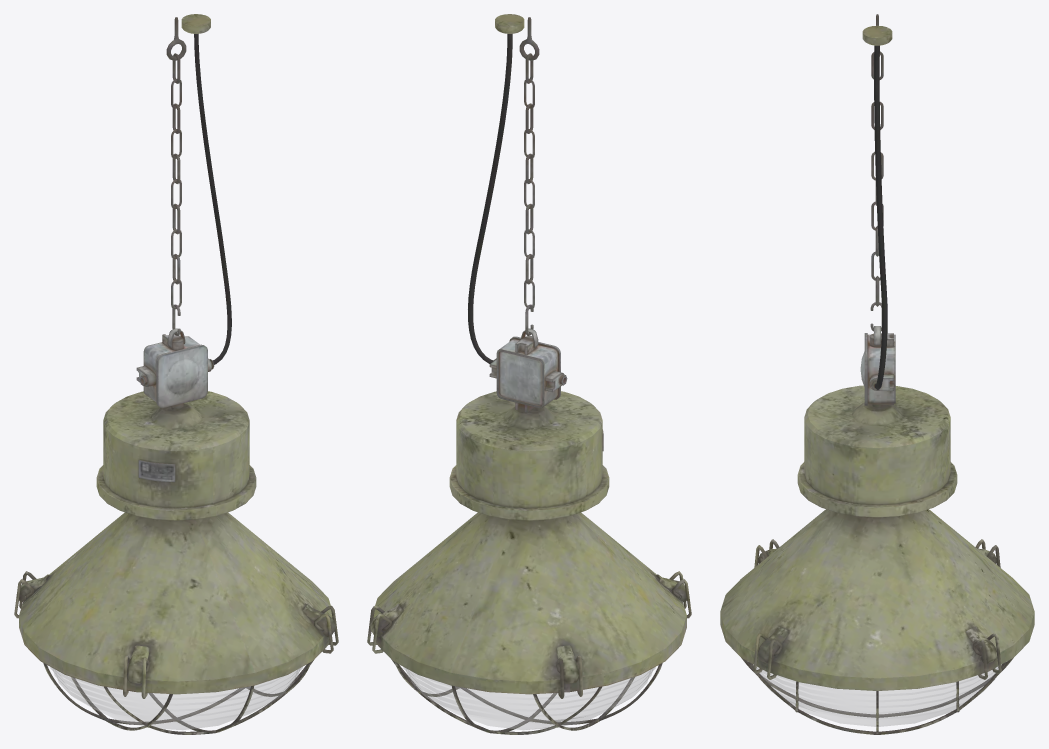
Rendered from hanging_industrial_lamp.glb.
The picture shows the model from 3 angles, left to right: view 1: azimuth 30°, elevation 25°; view 2: azimuth 150°, elevation 25°; view 3: azimuth 270°, elevation 25°; orthographic projection.
Visible parts, largest first — view 1: hanging_industrial_lamp; view 2: hanging_industrial_lamp; view 3: hanging_industrial_lamp.
Boxes of the visible parts, x1,y1,x2,y2 form: hanging_industrial_lamp: [14, 14, 338, 734]; hanging_industrial_lamp: [367, 14, 691, 734]; hanging_industrial_lamp: [720, 14, 1034, 734].
Size of the model in its own units: 0.5497 by 1.36 by 0.5497.
2 materials, 1 textured.
